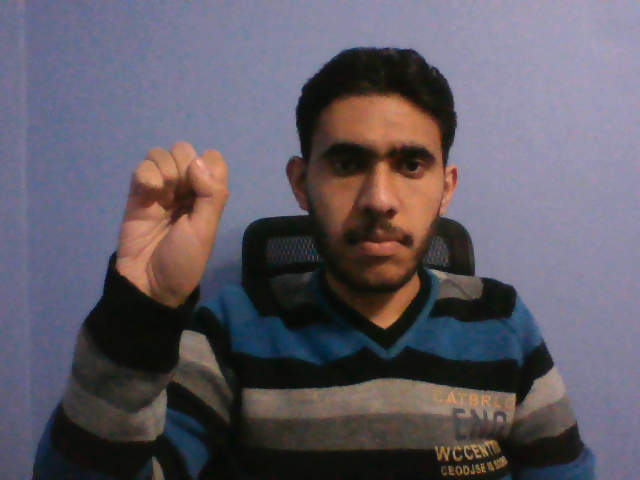S: (106, 134, 228, 325)
